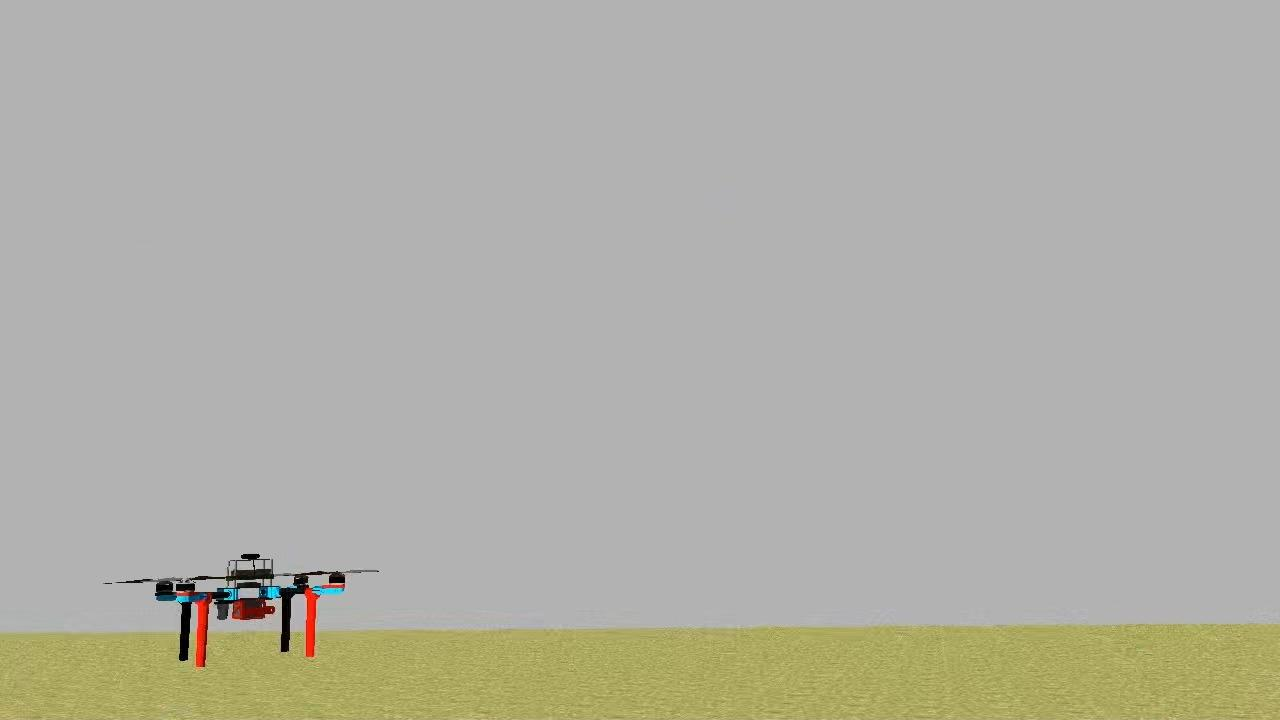UAV: (152, 546, 356, 668)
